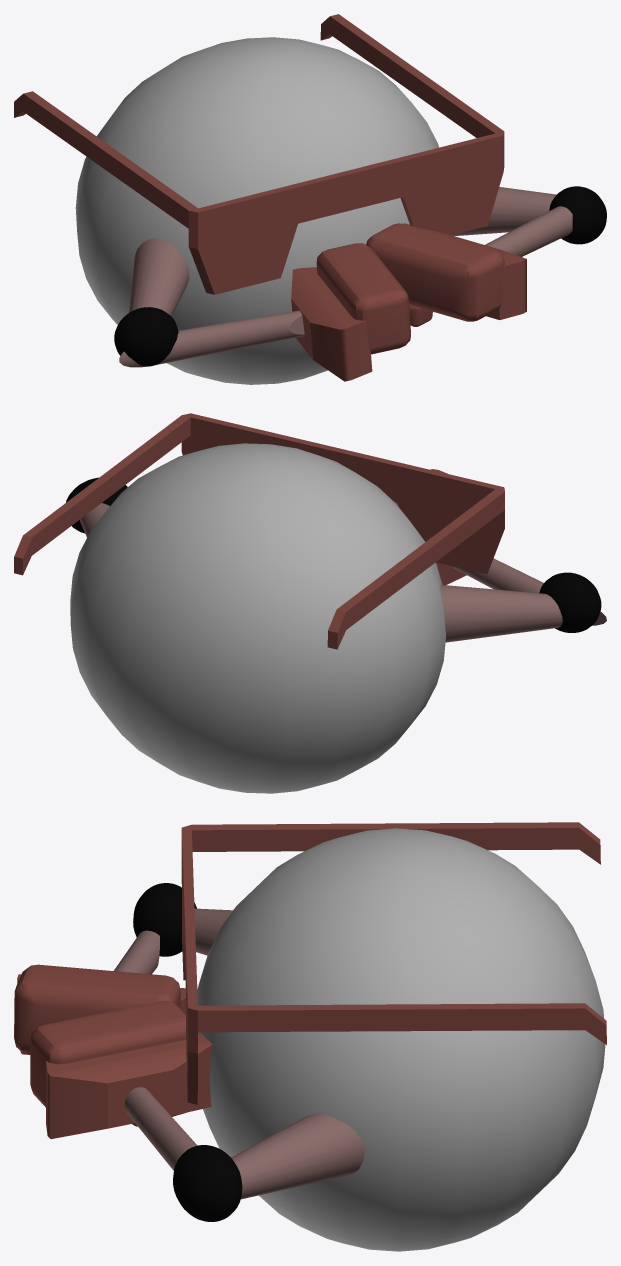
File: New Block Anim.fbx
The picture shows the model from 3 angles, top to bottom: view 1: azimuth 30°, elevation 25°; view 2: azimuth 150°, elevation 25°; view 3: azimuth 270°, elevation 25°; orthographic projection. The views are drawn at different scales.
Parts seen in each view (by area): view 1: pSphere1, pCube3, pCube6, pCube4, pCube2, pCylinder4, pCylinder3, pasted__pSphere5, pCylinder1, pCylinder2, pasted__pSphere1, pCube1; view 2: pSphere1, pCube3, pCylinder3, pasted__pSphere5, pCylinder4; view 3: pSphere1, pCube3, pCube1, pCube4, pCylinder1, pCube6, pasted__pSphere1, pasted__pSphere5, pCylinder2, pCylinder4, pCylinder3.
Boxes of the visible parts, x1,y1,x2,y2 form: pSphere1: (75,37,438,384); pCube3: (14,14,504,294); pCube6: (366,223,504,321); pCube4: (316,243,410,354); pCube2: (291,267,372,381); pCylinder4: (119,310,304,367); pCylinder3: (129,238,189,316); pasted__pSphere5: (114,307,178,366); pCylinder1: (451,187,556,236); pCylinder2: (485,206,572,256); pasted__pSphere1: (549,186,606,244); pCube1: (404,223,526,319); pSphere1: (70,443,445,793); pCube3: (14,413,504,649); pCylinder3: (440,585,562,642); pasted__pSphere5: (539,572,601,632); pCylinder4: (452,558,606,625); pSphere1: (197,828,605,1251); pCube3: (181,822,606,1104); pCube1: (46,1033,212,1138); pCube4: (14,964,180,1054); pCylinder1: (231,1113,364,1199); pCube6: (30,1001,185,1107); pasted__pSphere1: (173,1145,242,1221); pasted__pSphere5: (133,883,196,956); pCylinder2: (124,1087,197,1170); pCylinder4: (114,930,159,974); pCylinder3: (181,908,232,955).
Bounding box in the file's own units: 11.03 × 6.48 × 9.28.
